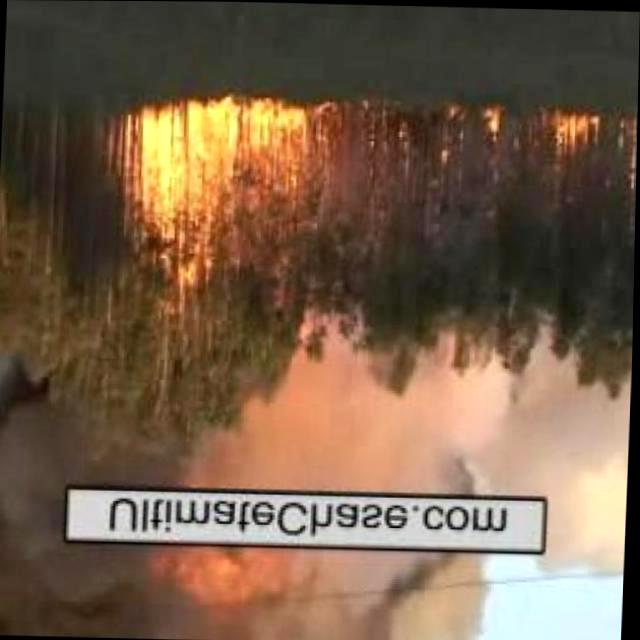fire: (110, 93, 318, 291), (432, 102, 501, 170), (542, 108, 606, 152)
